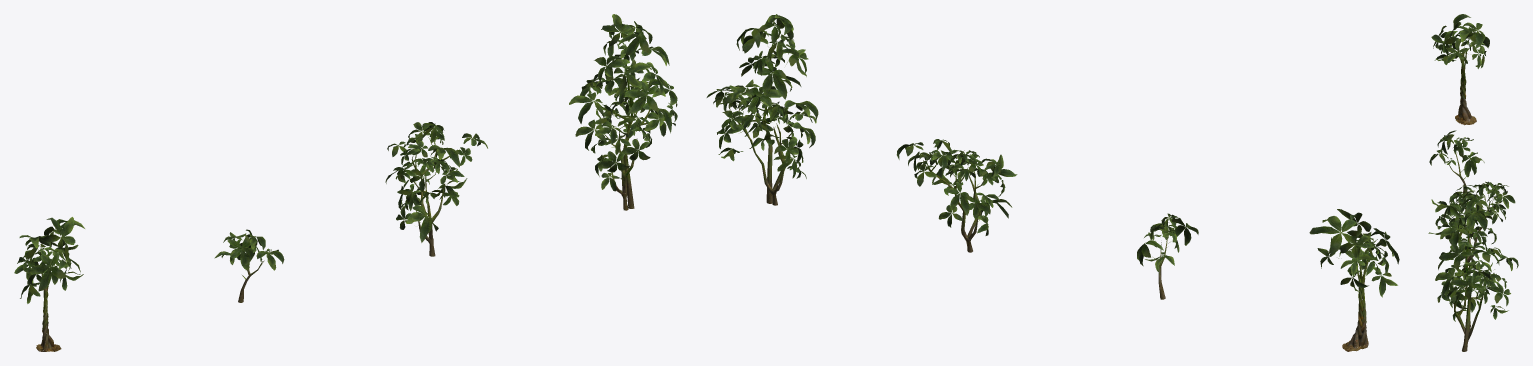
Rendered from pachira_aquatica_01.glb.
The picture shows the model from 3 angles, left to right: view 1: azimuth 30°, elevation 25°; view 2: azimuth 150°, elevation 25°; view 3: azimuth 270°, elevation 25°; orthographic projection. The views are drawn at different scales.
Visible parts, largest first — view 1: pachira_aquatica_01_bark_a; view 2: pachira_aquatica_01_bark_a; view 3: pachira_aquatica_01_bark_a.
Boxes of the visible parts, bbox=[...] form: pachira_aquatica_01_bark_a: bbox=[14, 14, 677, 351]; pachira_aquatica_01_bark_a: bbox=[706, 14, 1399, 351]; pachira_aquatica_01_bark_a: bbox=[1428, 14, 1518, 351].
Size of the model in its own units: 6.87 by 1.9 by 0.9963.
Materials: 2 (2 with a texture image).
